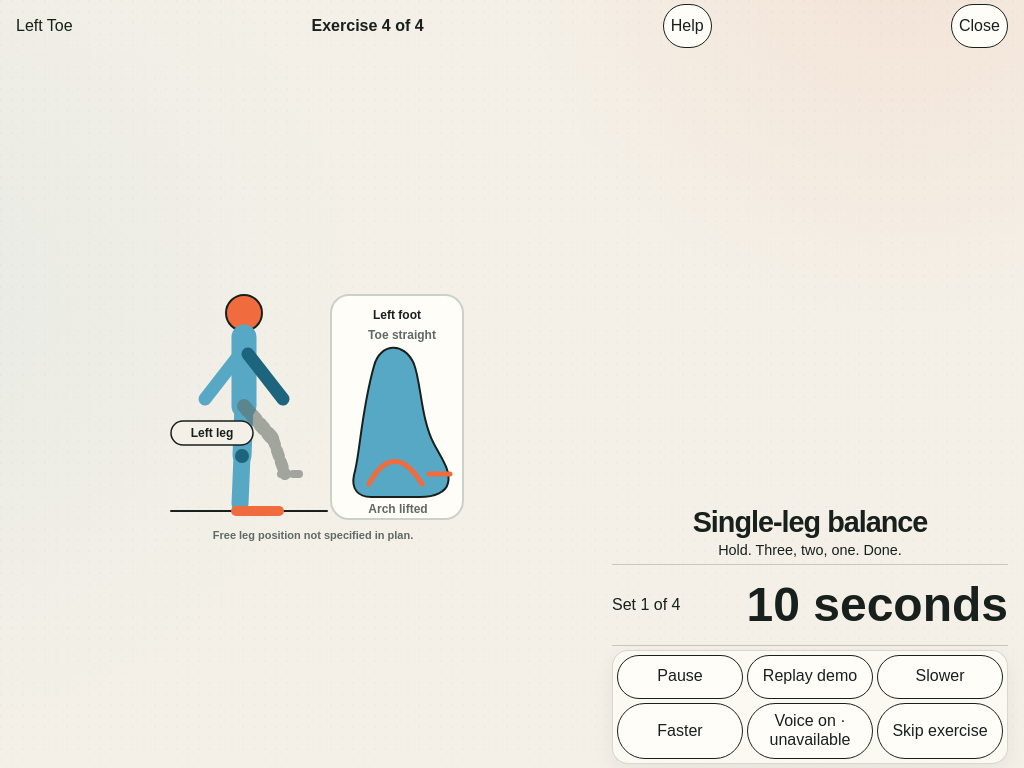
Scenario: SessionPlayer › records a confirmed final skip as saved rather than complete
The image size is (1024, 768).
Click the button "Skip exercise". click: (940,731)
box: [877,703,1003,759]
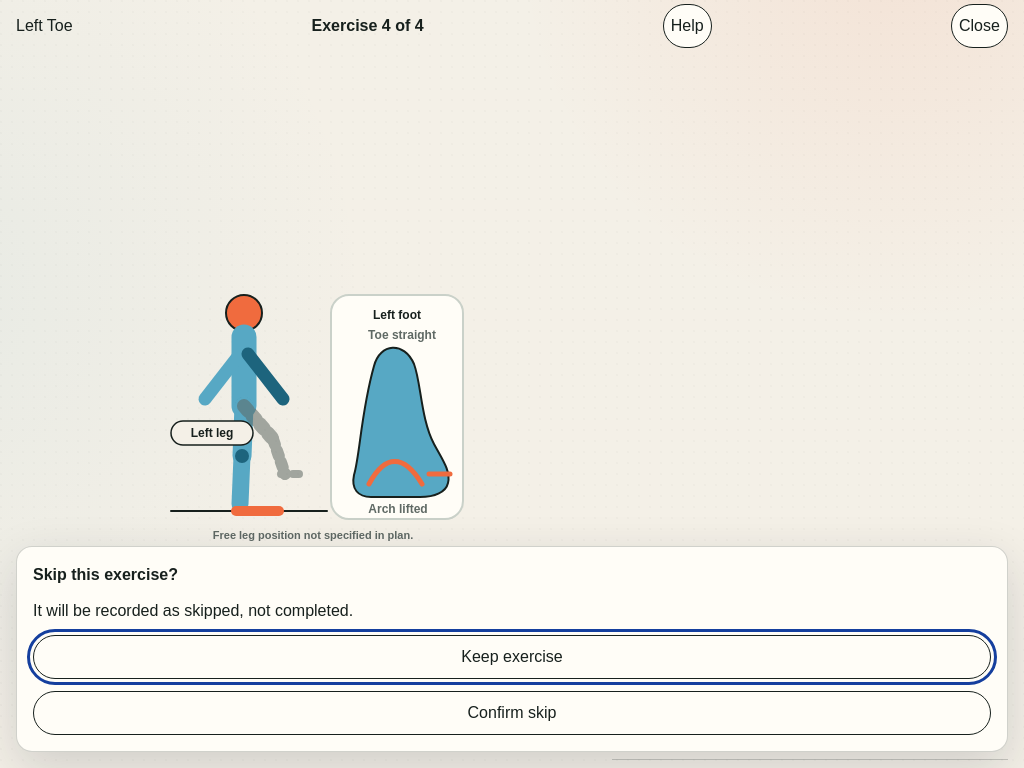
Expected: the dialog named "Confirm skip" is shown, [16,546,1008,752]
Click the button "Confirm skip". click: (512,713)
box: [33,691,991,735]
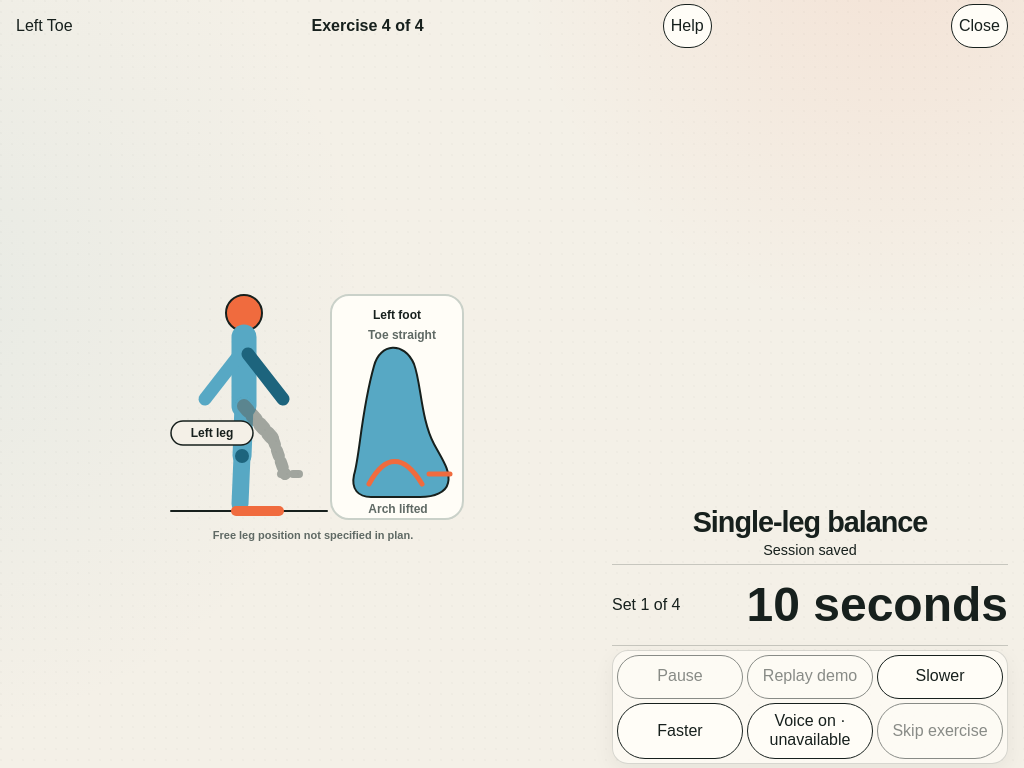
Expected: the message shows "Session saved", [763,542,857,558]
